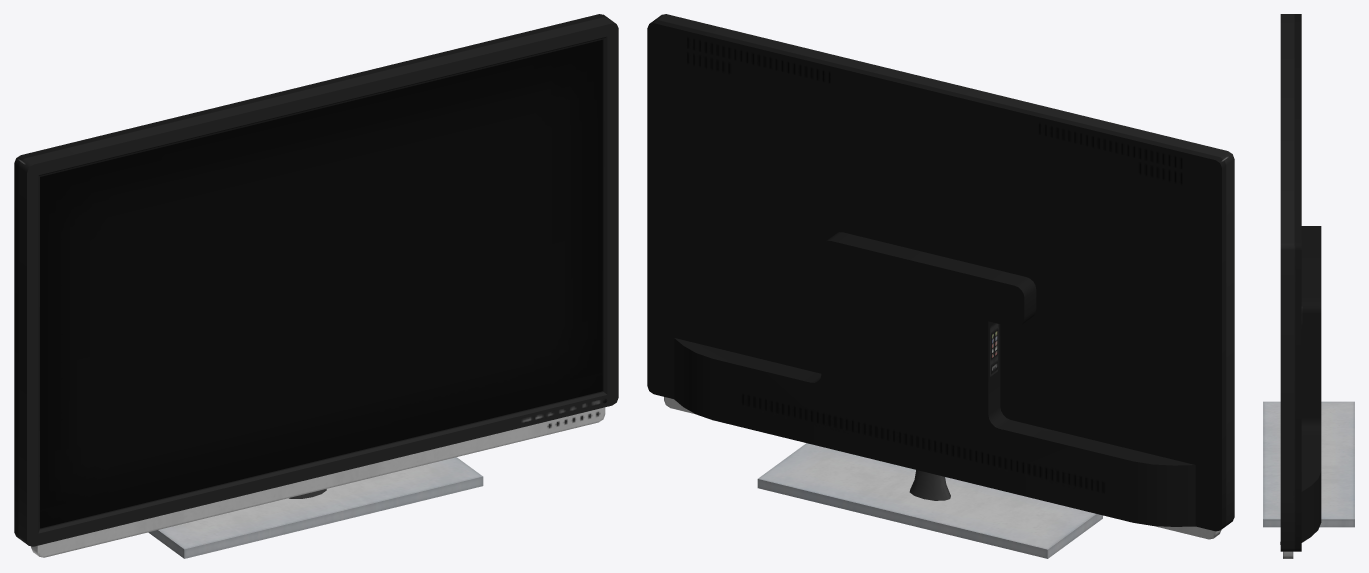
Rendered from 24 inch .fbx.
3 renders of one model, left to right at view 1: azimuth 30°, elevation 25°; view 2: azimuth 150°, elevation 25°; view 3: azimuth 270°, elevation 25°, orthographic. The views are drawn at different scales.
Parts seen in each view (by area): view 1: 24 inch; view 2: 24 inch; view 3: 24 inch.
Part boxes in pixels (<box>): 24 inch: <box>14,14,618,558</box>; 24 inch: <box>647,14,1234,558</box>; 24 inch: <box>1263,14,1354,558</box>.
Bounding box in the file's own units: 0.85 × 0.5772 × 0.1411.
